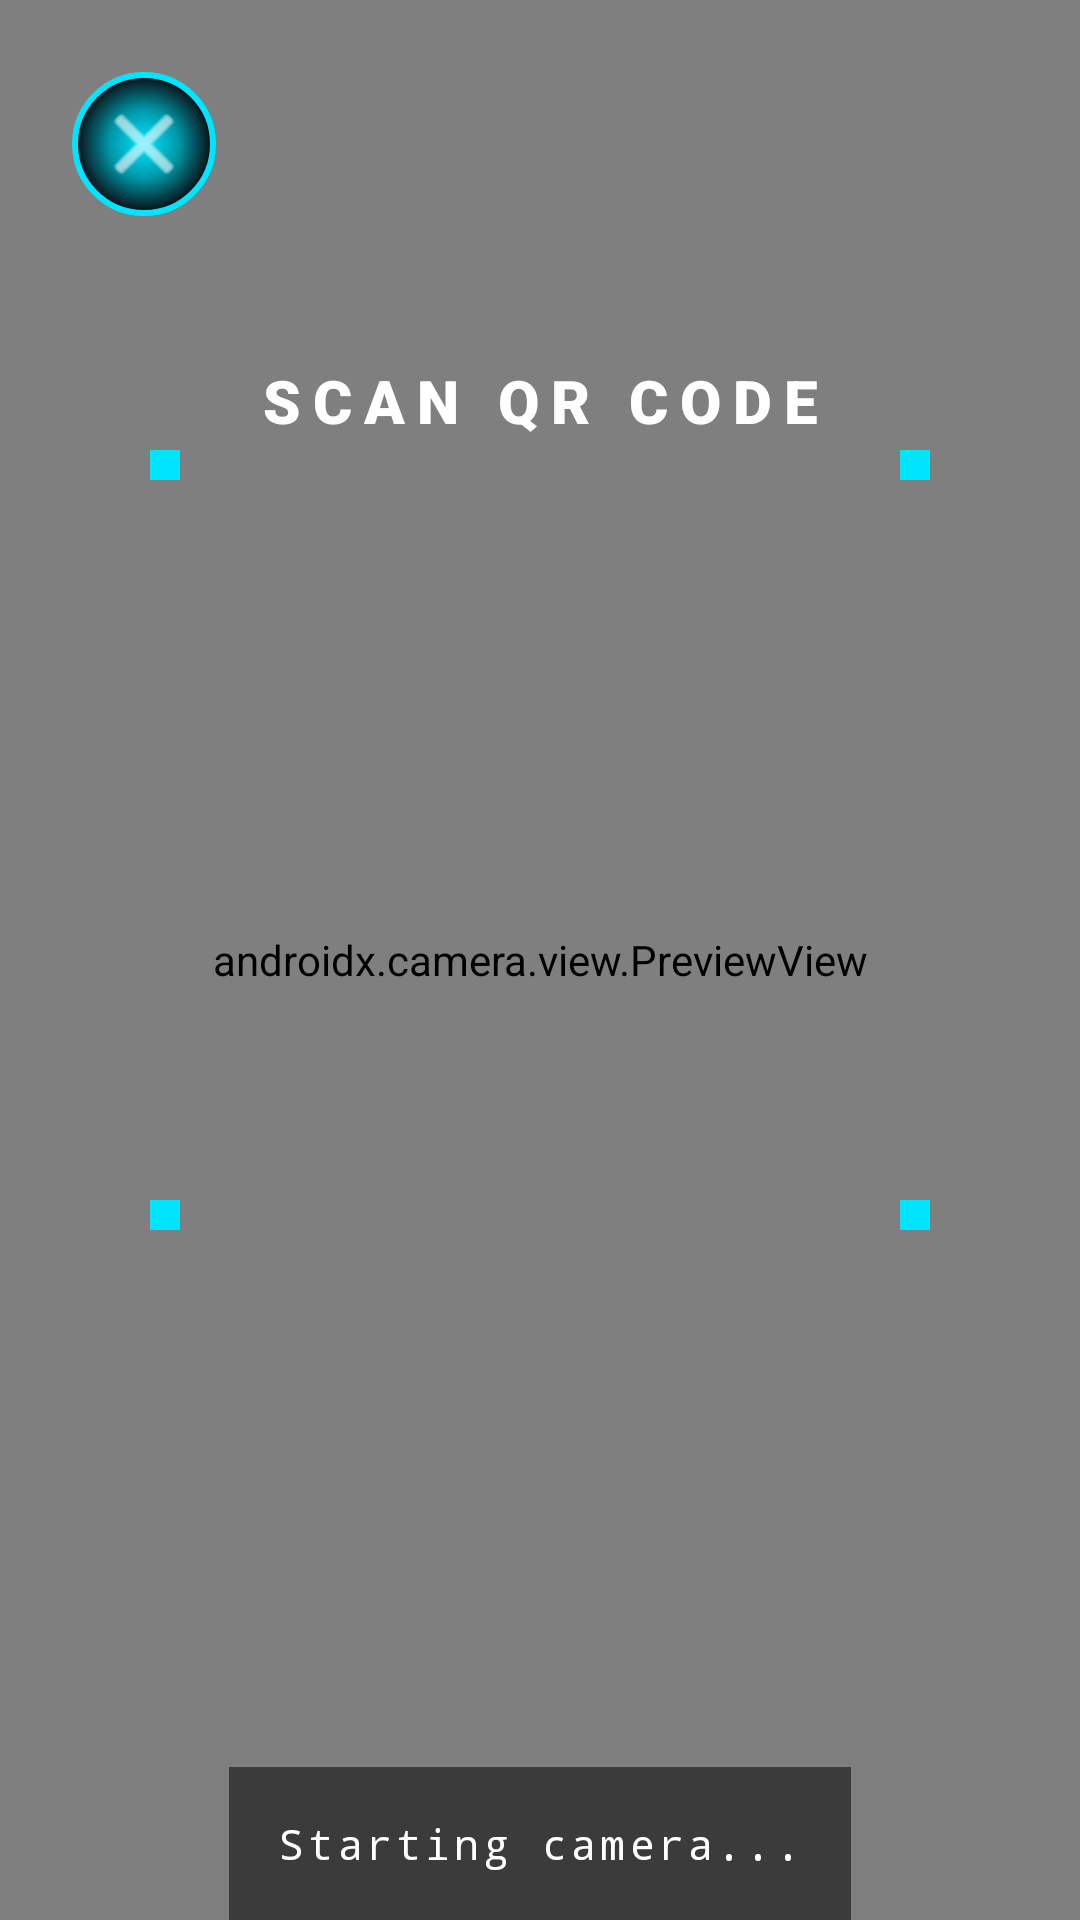

Locate icon controls on the screen. Image size 1080 x 1920, boxes as (x1, y1, x2, y2).
close clear cancel: (72, 72, 216, 216)
